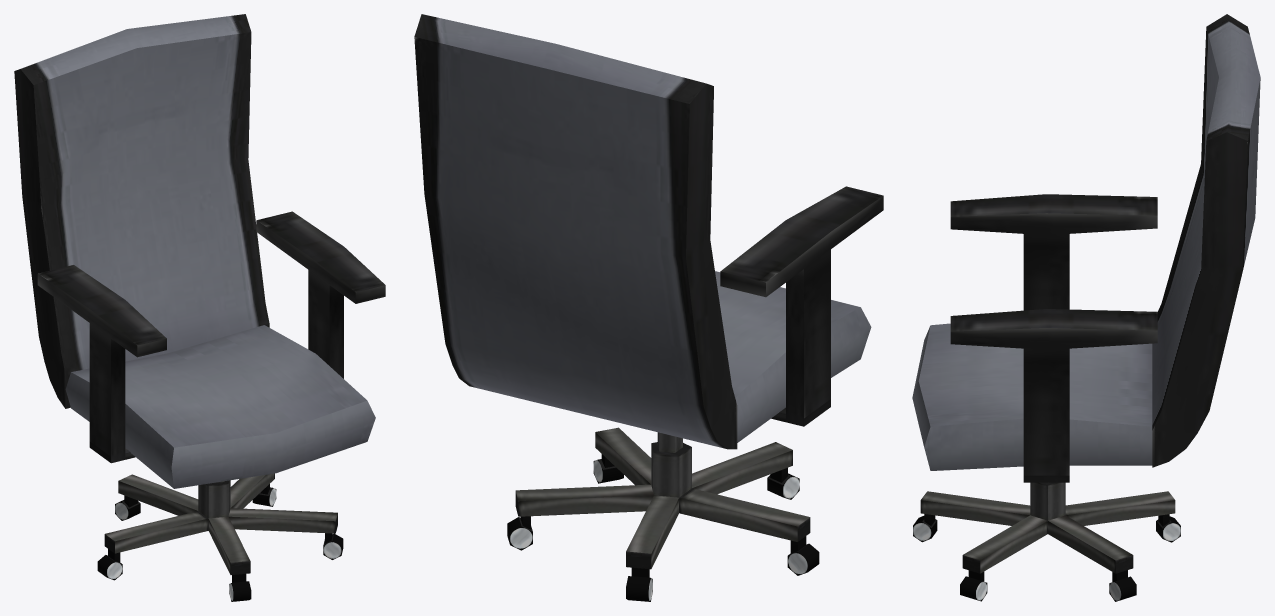
Rendered from Office Chair.fbx.
3 renders of one model, left to right at view 1: azimuth 30°, elevation 25°; view 2: azimuth 150°, elevation 25°; view 3: azimuth 270°, elevation 25°, orthographic. The views are drawn at different scales.
Visible parts, largest first — view 1: Chair_Back, Chair_Seat, Chair_Arm_Rest, Chair_Stand, Wheel4, Wheel5; view 2: Chair_Back, Chair_Stand, Chair_Arm_Rest, Chair_Seat, Wheel4, Wheel1, Wheel5, Wheel2; view 3: Chair_Back, Chair_Arm_Rest, Chair_Seat, Chair_Stand, Wheel3, Wheel2, Wheel5, Wheel1.
Part boxes in pixels (<box>): Chair_Back: <box>14,14,269,408</box>; Chair_Seat: <box>65,325,375,488</box>; Chair_Arm_Rest: <box>37,211,385,463</box>; Chair_Stand: <box>104,473,337,574</box>; Wheel4: <box>97,549,122,580</box>; Wheel5: <box>229,574,251,601</box>; Chair_Back: <box>414,14,737,449</box>; Chair_Stand: <box>515,427,810,569</box>; Chair_Arm_Rest: <box>720,186,883,426</box>; Chair_Seat: <box>715,271,871,442</box>; Wheel4: <box>787,536,819,575</box>; Wheel1: <box>626,567,652,601</box>; Wheel5: <box>767,467,799,499</box>; Wheel2: <box>507,516,532,550</box>; Chair_Back: <box>1152,14,1260,467</box>; Chair_Arm_Rest: <box>950,194,1157,482</box>; Chair_Seat: <box>912,323,1152,470</box>; Chair_Stand: <box>920,482,1175,573</box>; Wheel3: <box>960,570,987,601</box>; Wheel2: <box>1109,570,1136,601</box>; Wheel5: <box>913,514,937,542</box>; Wheel1: <box>1156,514,1180,542</box>.
Size of the model in its own units: 2.06 by 3.53 by 2.27.
